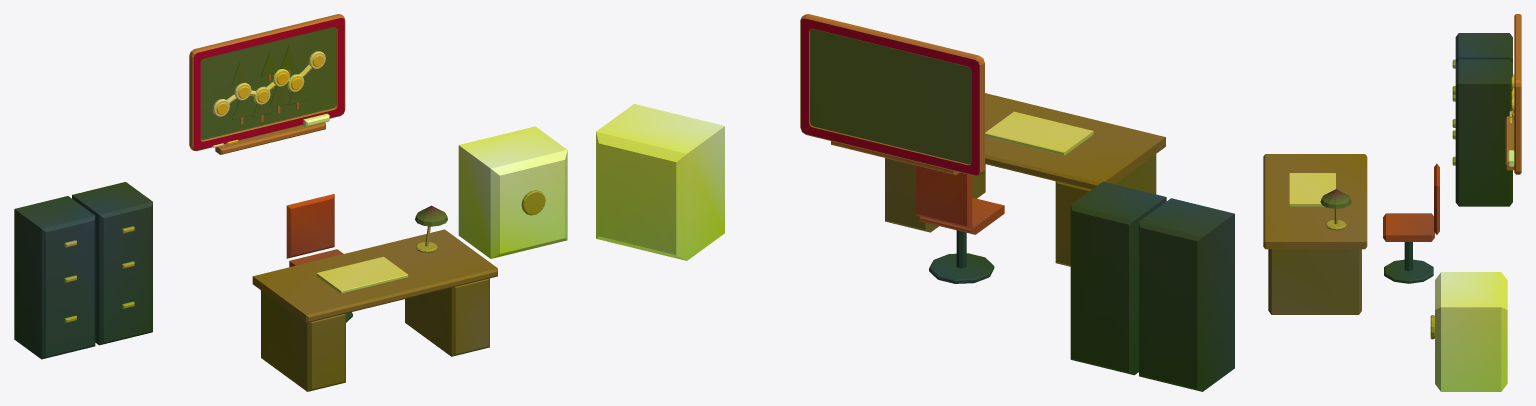
The model's file is GS_OfficeFurniture.fbx.
3 views of the same model, side by side, from view 1: azimuth 30°, elevation 25°; view 2: azimuth 150°, elevation 25°; view 3: azimuth 270°, elevation 25° (orthographic). The views are drawn at different scales.
Parts seen in each view (by area): view 1: GS_OfficeFurniture; view 2: GS_OfficeFurniture; view 3: GS_OfficeFurniture.
Part boxes in pixels (<box>): GS_OfficeFurniture: <box>14,14,567,391</box>; GS_OfficeFurniture: <box>596,14,1234,391</box>; GS_OfficeFurniture: <box>1263,14,1521,391</box>.
Bounding box in the file's own units: 5.38 × 2.4 × 2.49.
